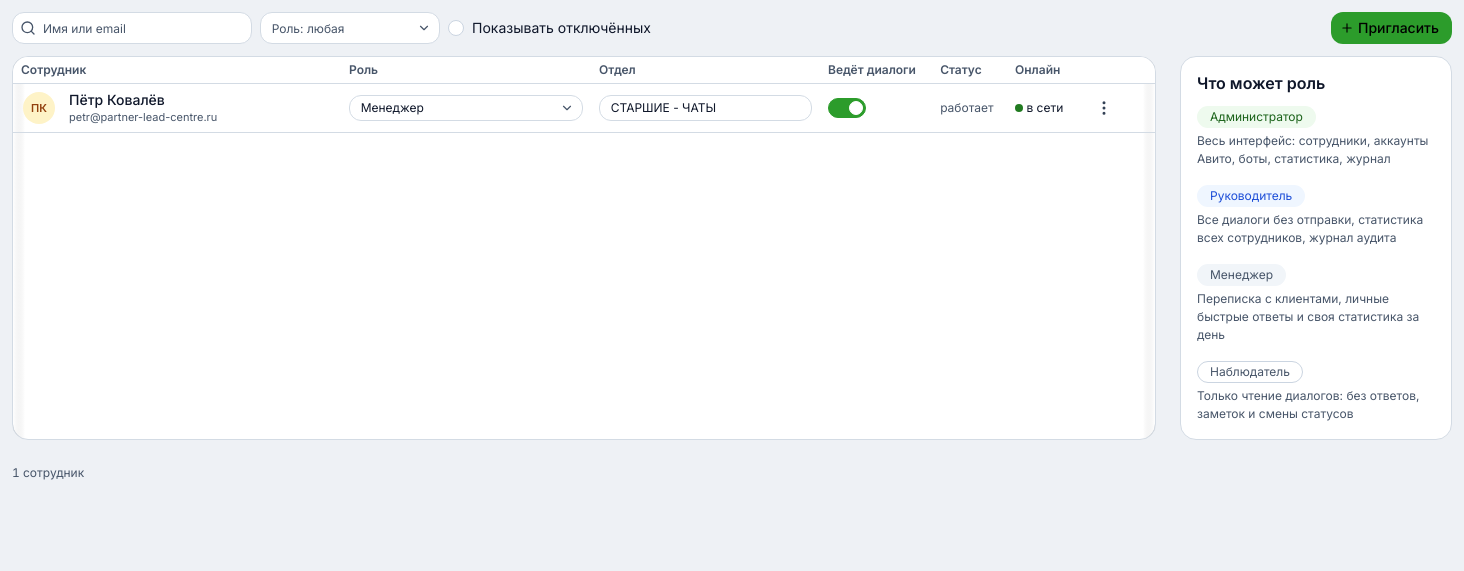
Scenario: Команда — сохранение видно, ошибка названа честно › 400 validation_error — слова сервера и имя поля
Check: the table is shown, box [13, 57, 1155, 133]
Replace the text in the field named "Отдел: Пётр Ковалёв" with "ВЫЕЗД" at (706, 108), box [599, 95, 812, 121]
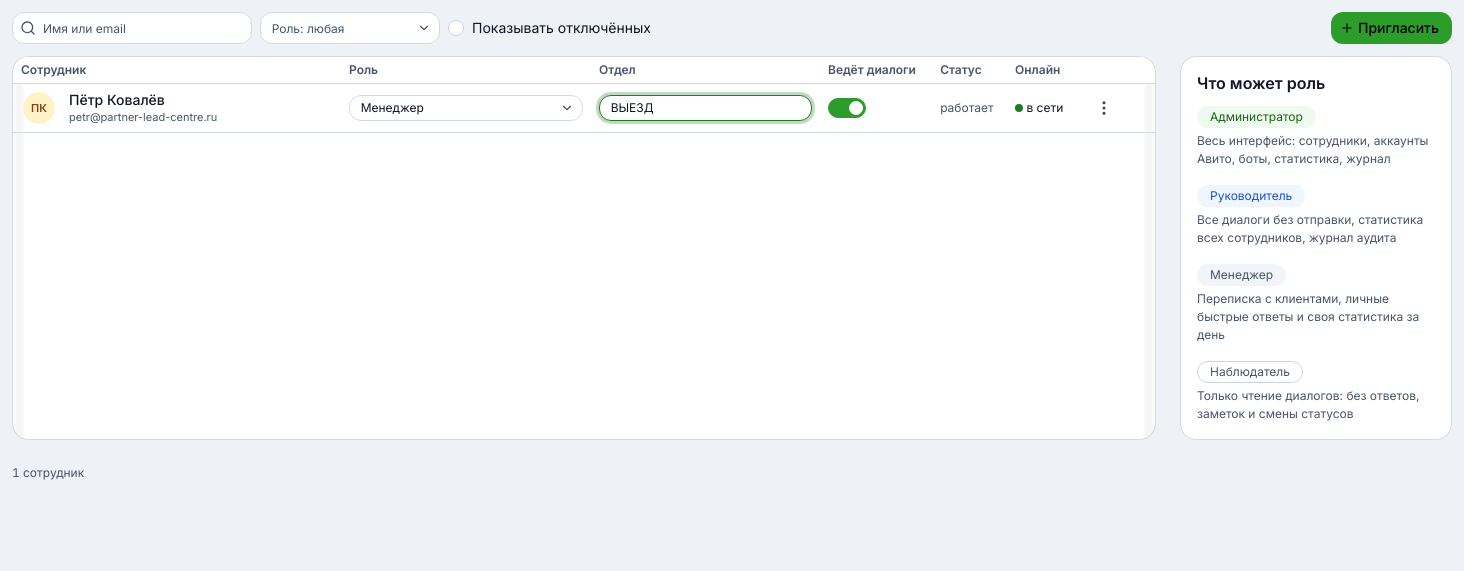
Press Tab
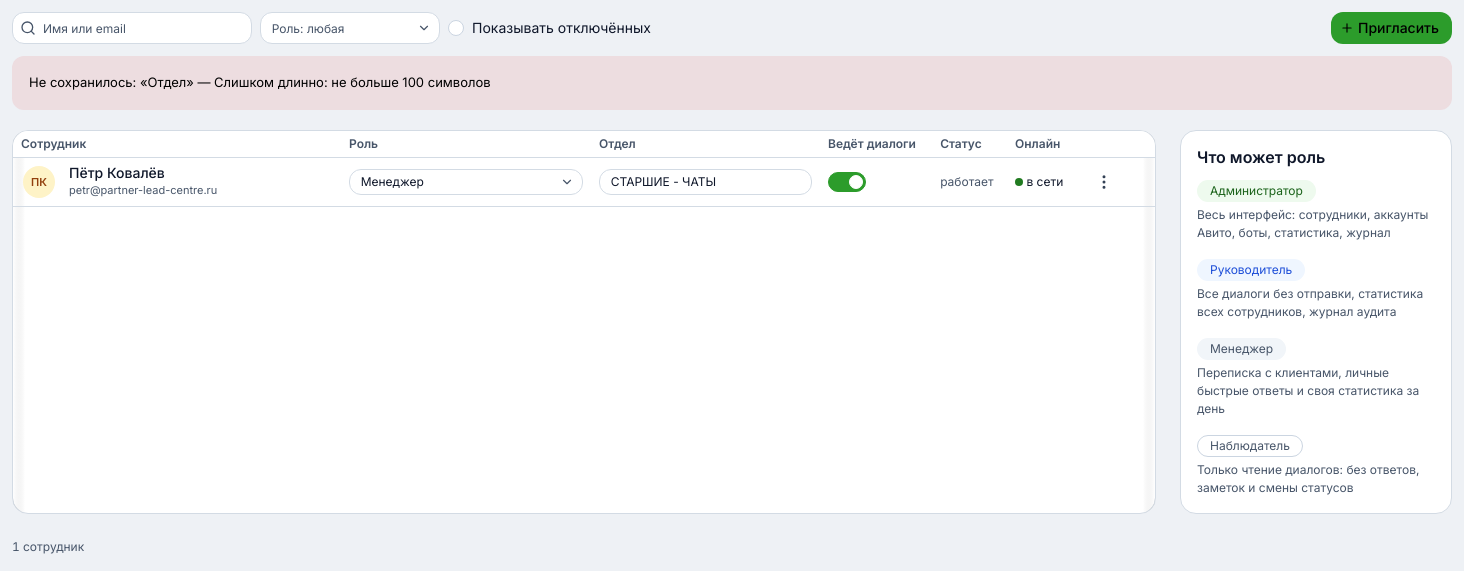
Check: the text "Не сохранилось: «Отдел» — Слишком длинно: не больше 100 символов" is shown, box [29, 74, 491, 90]
